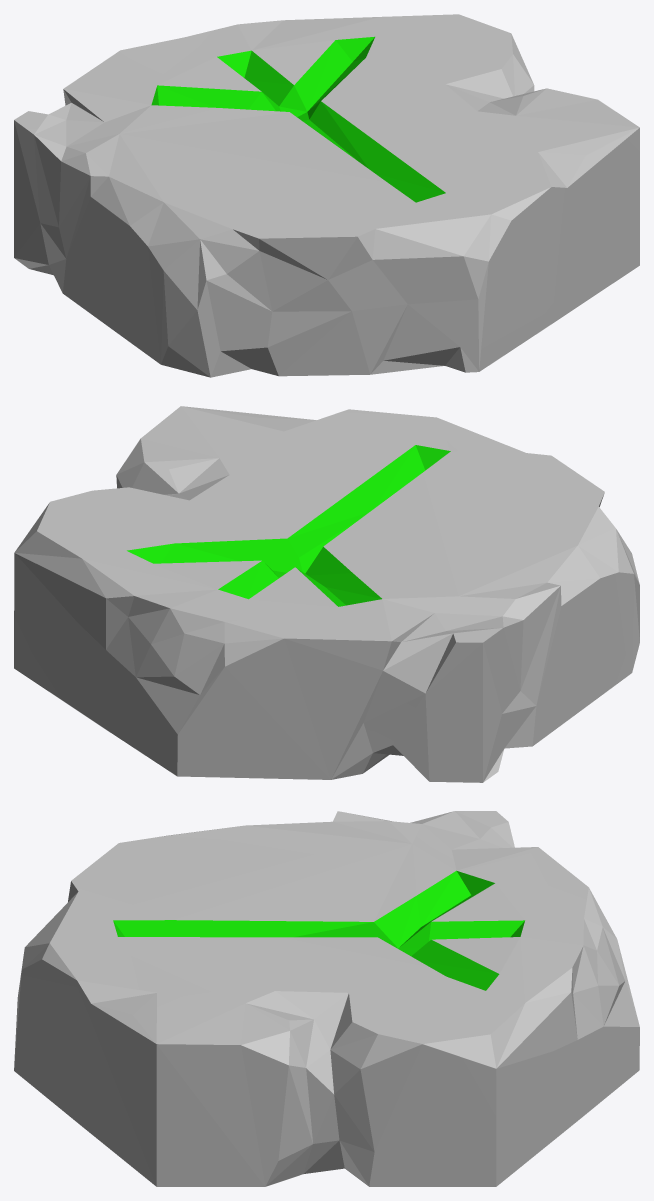
Rendered from Button2.fbx.
3 renders of one model, top to bottom at view 1: azimuth 30°, elevation 25°; view 2: azimuth 150°, elevation 25°; view 3: azimuth 270°, elevation 25°, orthographic. The views are drawn at different scales.
Parts seen in each view (by area): view 1: SM_Env_Rune_Rounded_02; view 2: SM_Env_Rune_Rounded_02; view 3: SM_Env_Rune_Rounded_02.
Boxes of the visible parts, x1,y1,x2,y2 form: SM_Env_Rune_Rounded_02: (14, 14, 639, 377); SM_Env_Rune_Rounded_02: (14, 406, 639, 782); SM_Env_Rune_Rounded_02: (14, 811, 639, 1186).
Size of the model in its own units: 171 by 48.74 by 194.
